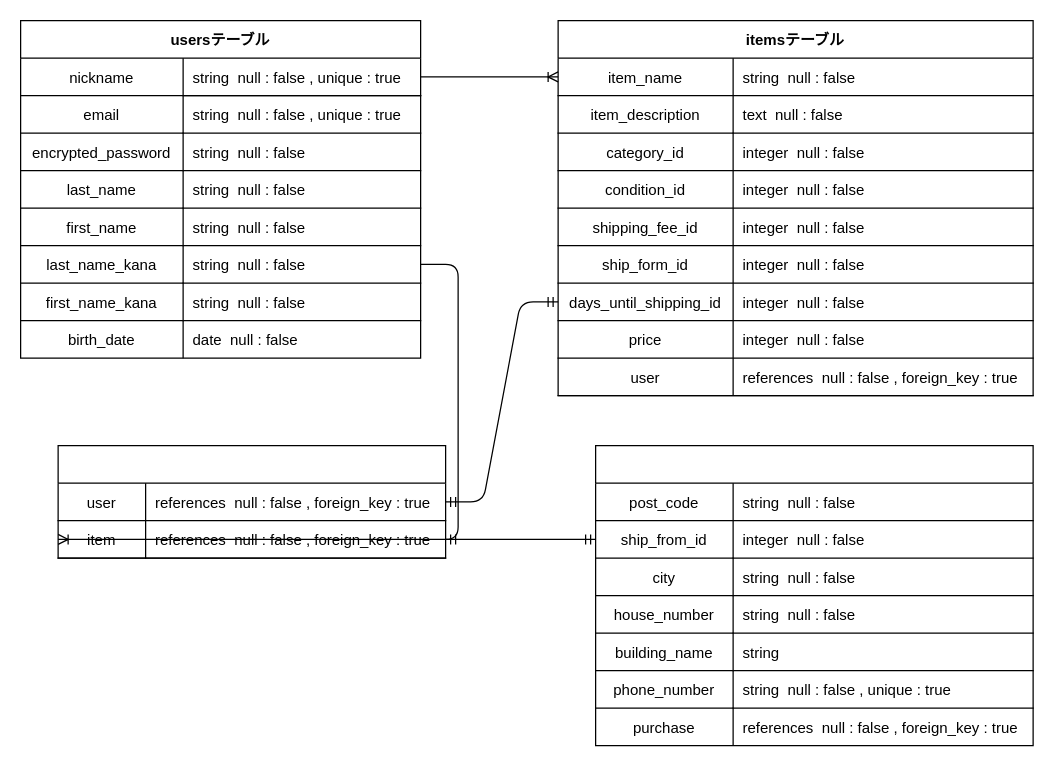
Image size: 1054x766. Some labels were removed from this diagram. Here are the shapes that lost their labels. From the top down, the box of each, then its label:
(57, 444, 446, 558): purchasesテーブル
(594, 444, 1033, 746): addressesテーブル
